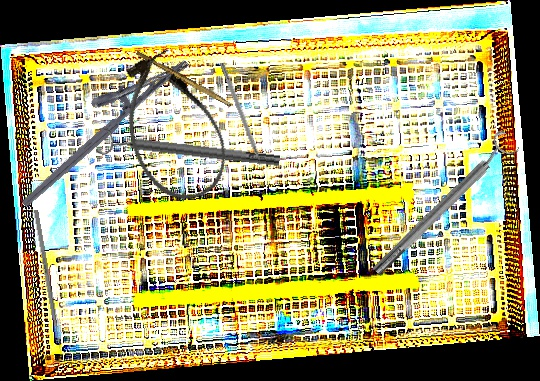Cannula: (103, 41, 241, 214)
Fixation Ring: (365, 128, 522, 282), (95, 124, 282, 178)
Hook Surgical: (218, 61, 268, 177)
Needle Holder: (1, 36, 191, 209)
Pusher: (33, 209, 64, 358)
Scalpel Handle: (134, 50, 234, 107)
